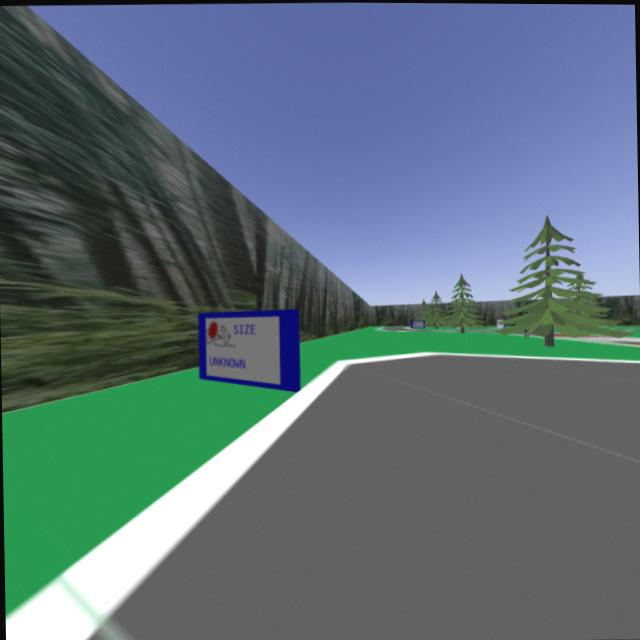clueboard: (190, 303, 307, 397), (407, 318, 427, 330)
